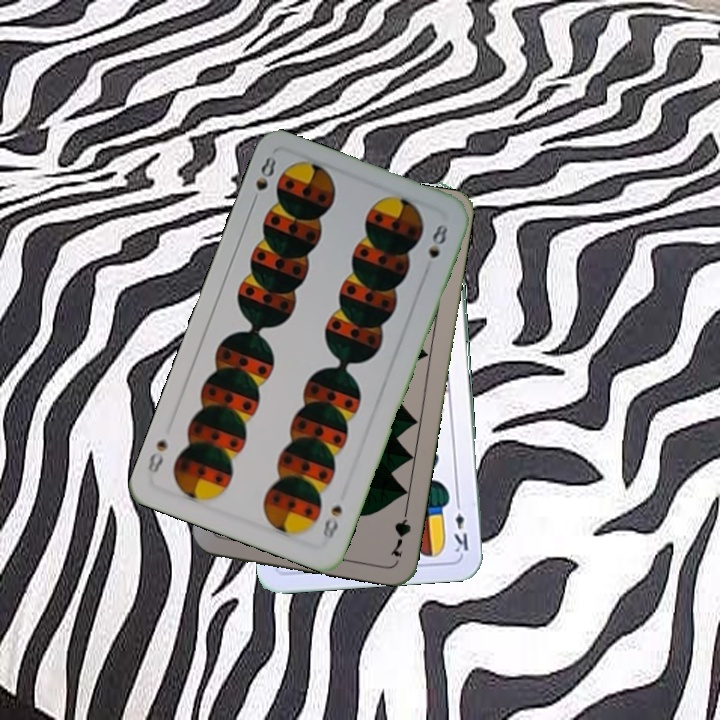EK: (449, 496, 471, 555)
G7: (386, 501, 414, 560)
S8: (247, 152, 279, 209), (318, 501, 345, 543)
